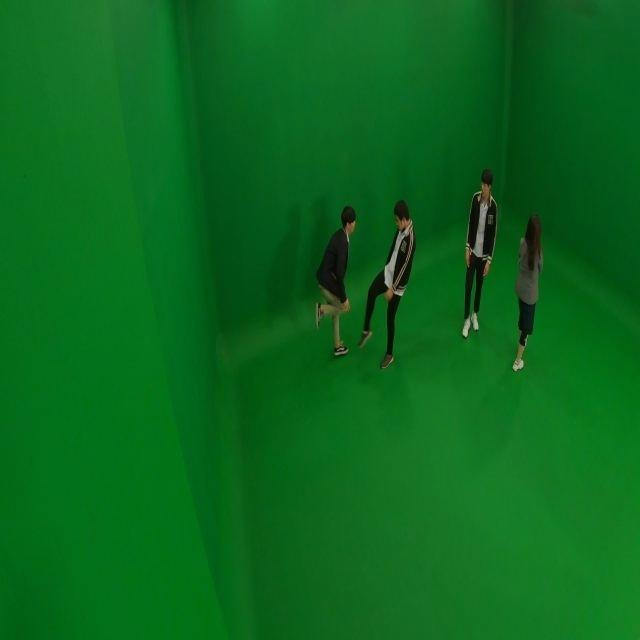fight: (312, 197, 415, 369)
non-fight: (461, 167, 497, 337), (509, 214, 544, 370)
